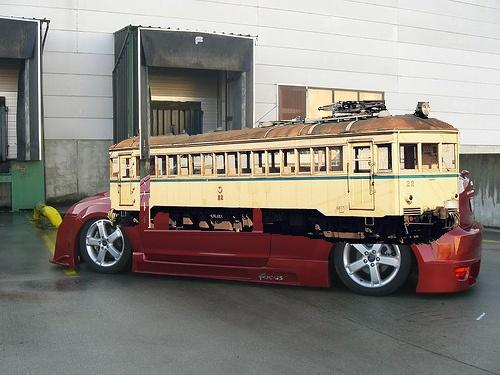tampered: (108, 101, 460, 245)
